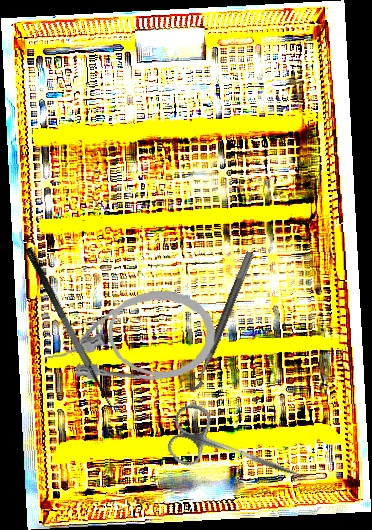Cannula: (43, 287, 219, 388)
Fixation Ring: (178, 246, 256, 394)
Iris Scissors: (161, 399, 312, 503)
Spatula Surgical: (23, 239, 126, 416)
